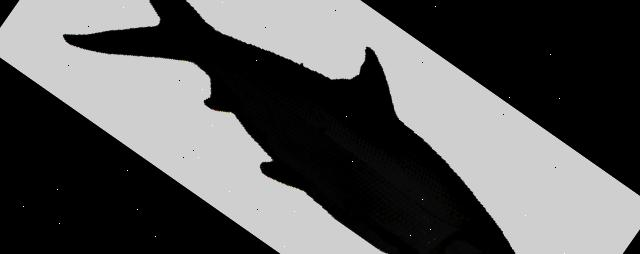Parasitic Disease: (64, 0, 514, 254), (64, 0, 513, 254)
